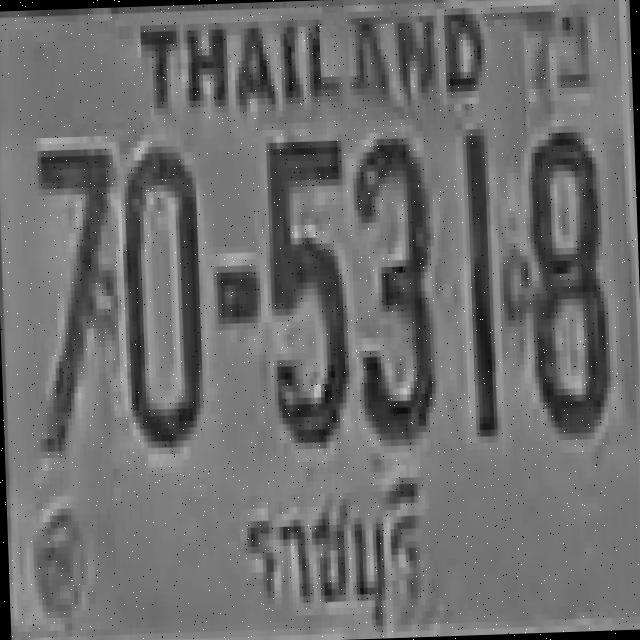0: (118, 139, 202, 442)
1: (462, 128, 498, 436)
3: (352, 131, 434, 440)
5: (264, 134, 349, 443)
7: (33, 142, 119, 451)
8: (522, 125, 608, 434)
Ratchaburi: (239, 472, 432, 640)
